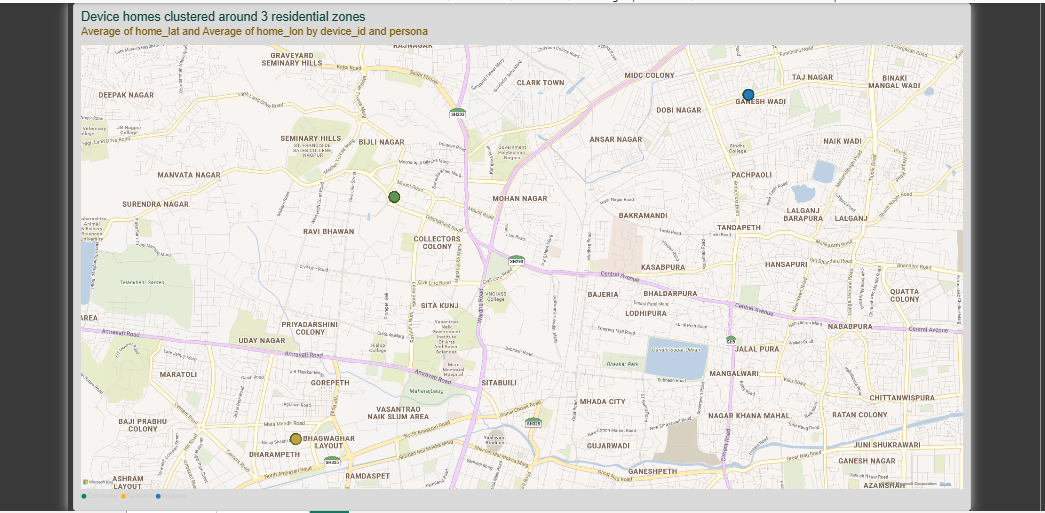

The dashboard page shown, as its layout file describes it:
{"tool":"powerbi","page":{"name":"Map veiw","canvas":[1920,1080],"ordinal":1},"visuals":[{"type":"map","title":"Device homes clustered around 3 residential zones","fields":{"Series":["catchment_data_with_rules.persona"],"Y":["Avg(catchment_data_with_rules.home_lat)"],"X":["Avg(catchment_data_with_rules.home_lon)"],"Category":["catchment_data_with_rules.device_id"]},"box":[10.6,0,1909.4,1080.2],"z":0}]}

Visuals, with their boxes in screenshot pixels (x1, y1, x2, y2):
"Device homes clustered around 3 residential zones" map: [70,0,967,507]
